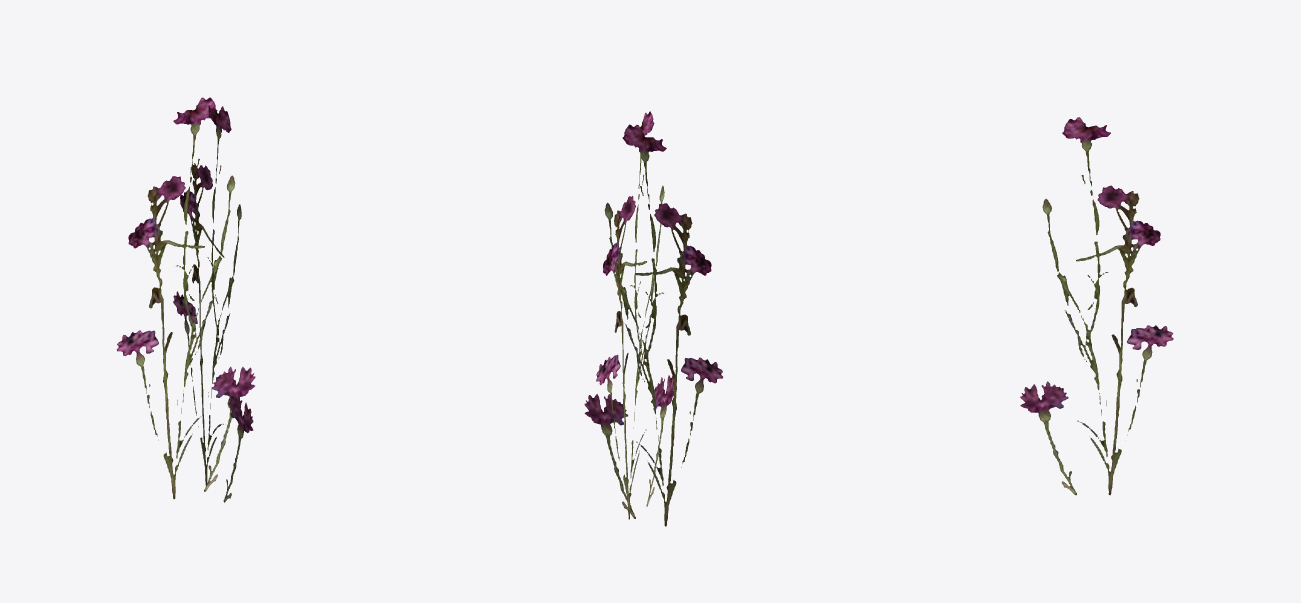
The model's file is Model_Plant_07.fbx.
3 views of the same model, side by side, from view 1: azimuth 30°, elevation 25°; view 2: azimuth 150°, elevation 25°; view 3: azimuth 270°, elevation 25° (orthographic). The views are drawn at different scales.
Visible parts, largest first — view 1: Centaurea_cyanus; view 2: Centaurea_cyanus; view 3: Centaurea_cyanus.
Boxes of the visible parts, box(x1,y1,x2,y2) form: Centaurea_cyanus: box(116, 97, 255, 502); Centaurea_cyanus: box(584, 111, 722, 526); Centaurea_cyanus: box(1020, 117, 1173, 495).
Size of the model in its own units: 100 by 100 by 100.
